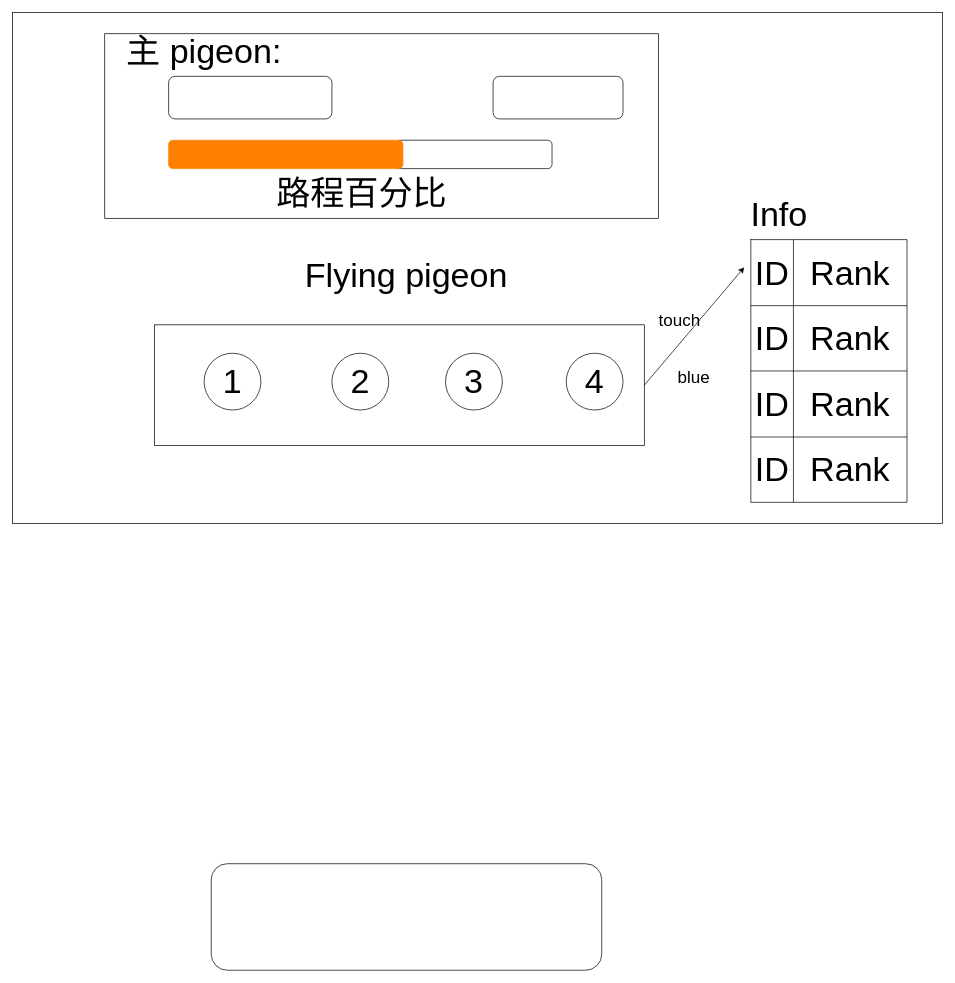
Some shapes in this 955 by 983 pixel diagram are drawn without their labels. Here are the shapes that lost their labels. From the top down, the centre of each, then its label:
At (x=250, y=97): "cur speed".
At (x=557, y=97): "cur time".
